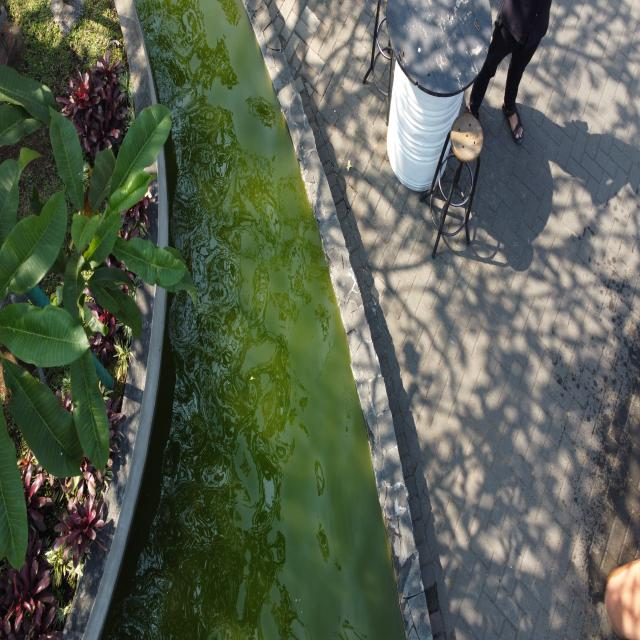Ponds: (64, 1, 435, 640)
